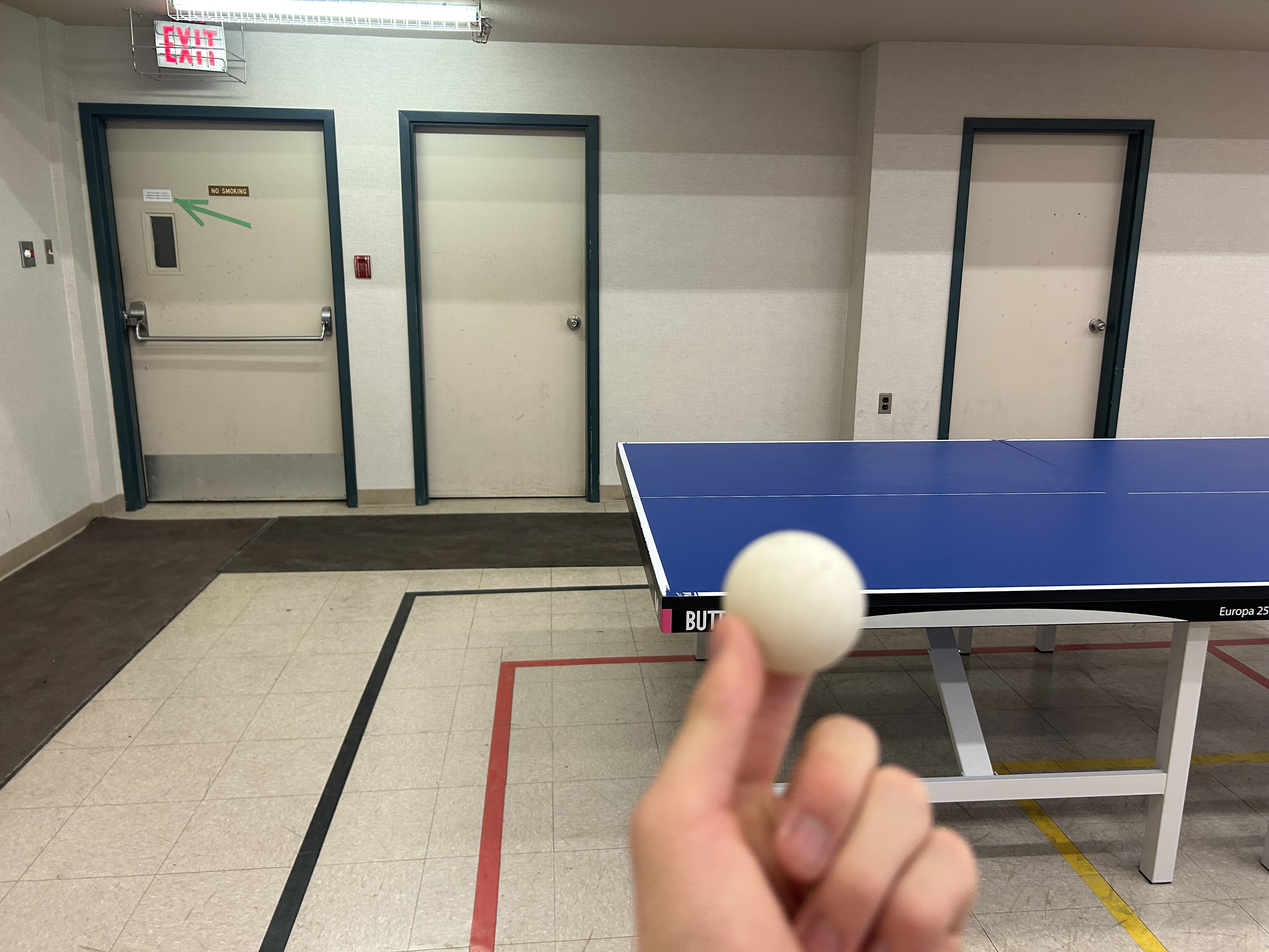Ball: (682, 518, 882, 681)
